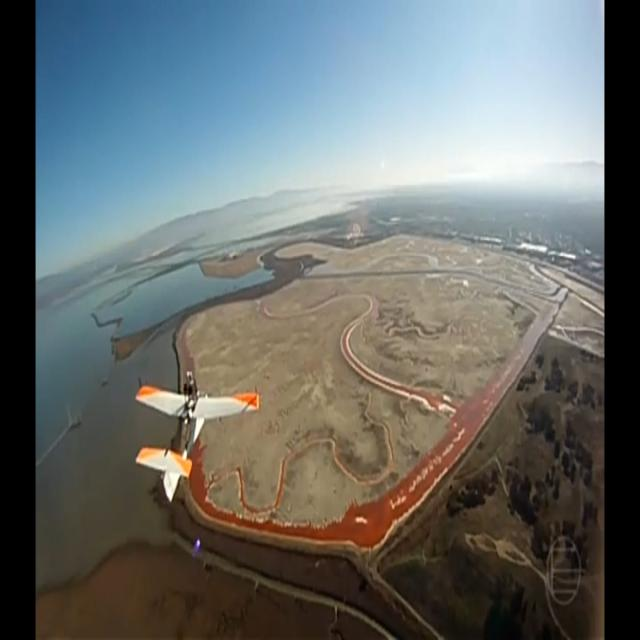iha: (166, 370, 228, 500)
